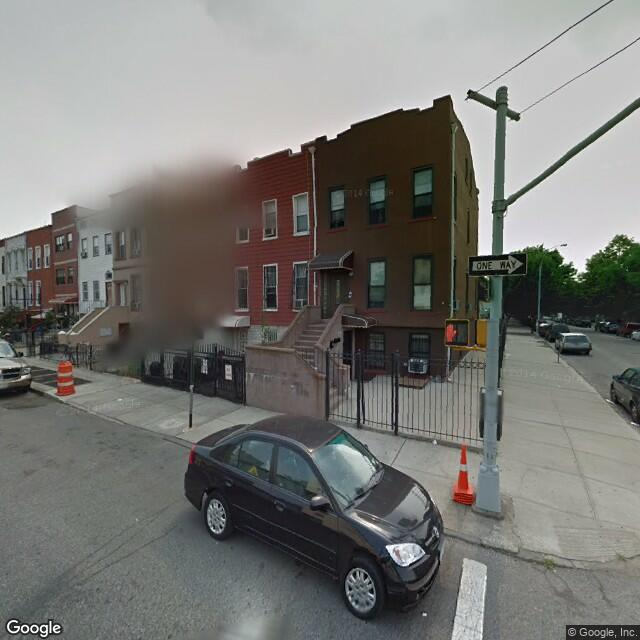litter: (101, 389, 139, 412), (416, 603, 436, 622), (421, 433, 444, 449), (596, 392, 616, 410), (625, 417, 640, 428)
